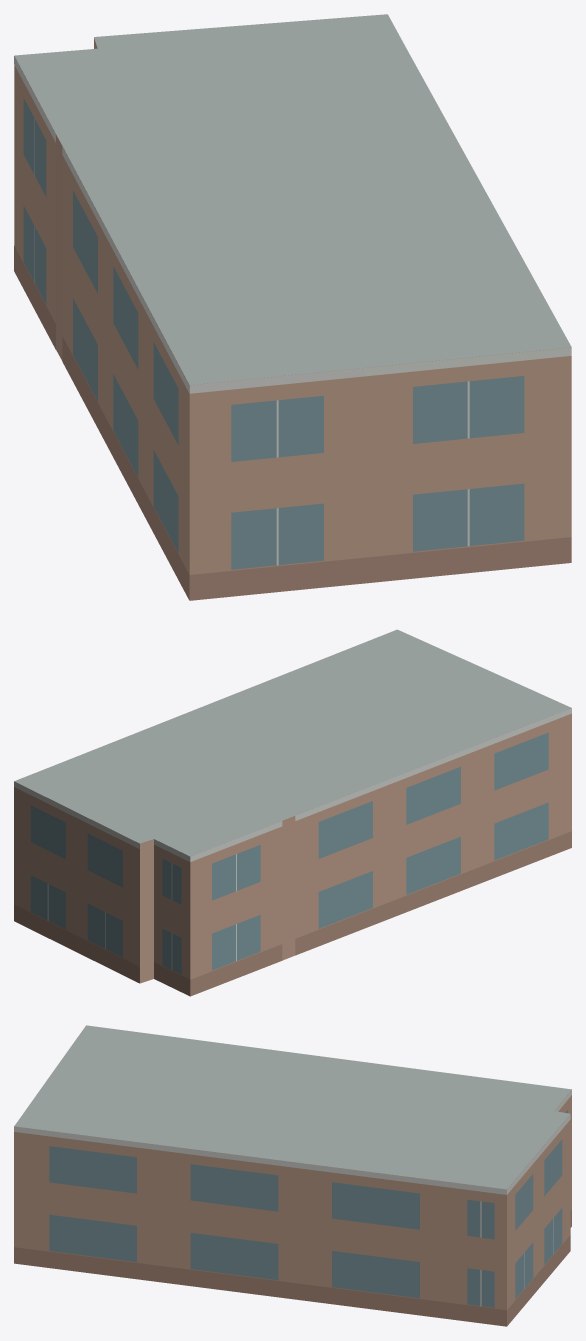
File: survey-upis-32539156.glb
3 views of the same model, one above another, from view 1: azimuth 30°, elevation 25°; view 2: azimuth 150°, elevation 25°; view 3: azimuth 270°, elevation 25° (orthographic). The views are drawn at different scales.
Visible parts, largest first — view 1: survey-upis-32539156.tmp; view 2: survey-upis-32539156.tmp; view 3: survey-upis-32539156.tmp.
Boxes of the visible parts, bbox=[...] form: survey-upis-32539156.tmp: bbox=[14, 14, 571, 600]; survey-upis-32539156.tmp: bbox=[14, 629, 571, 996]; survey-upis-32539156.tmp: bbox=[14, 1025, 571, 1326].
Bounding box in the file's own units: 15.67 × 6.1 × 22.49.
